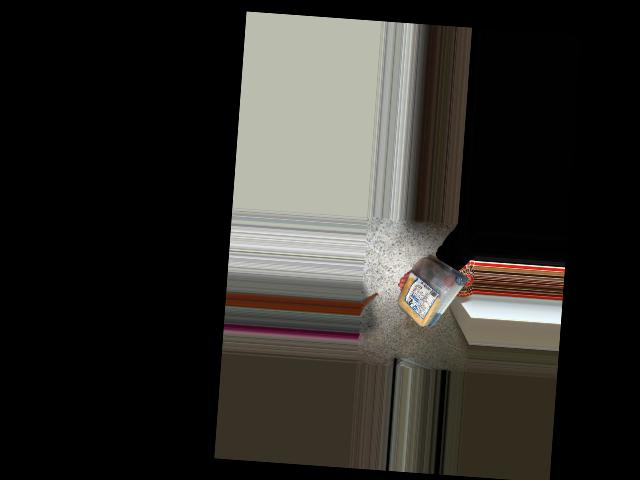cheese: (395, 253, 464, 333)
